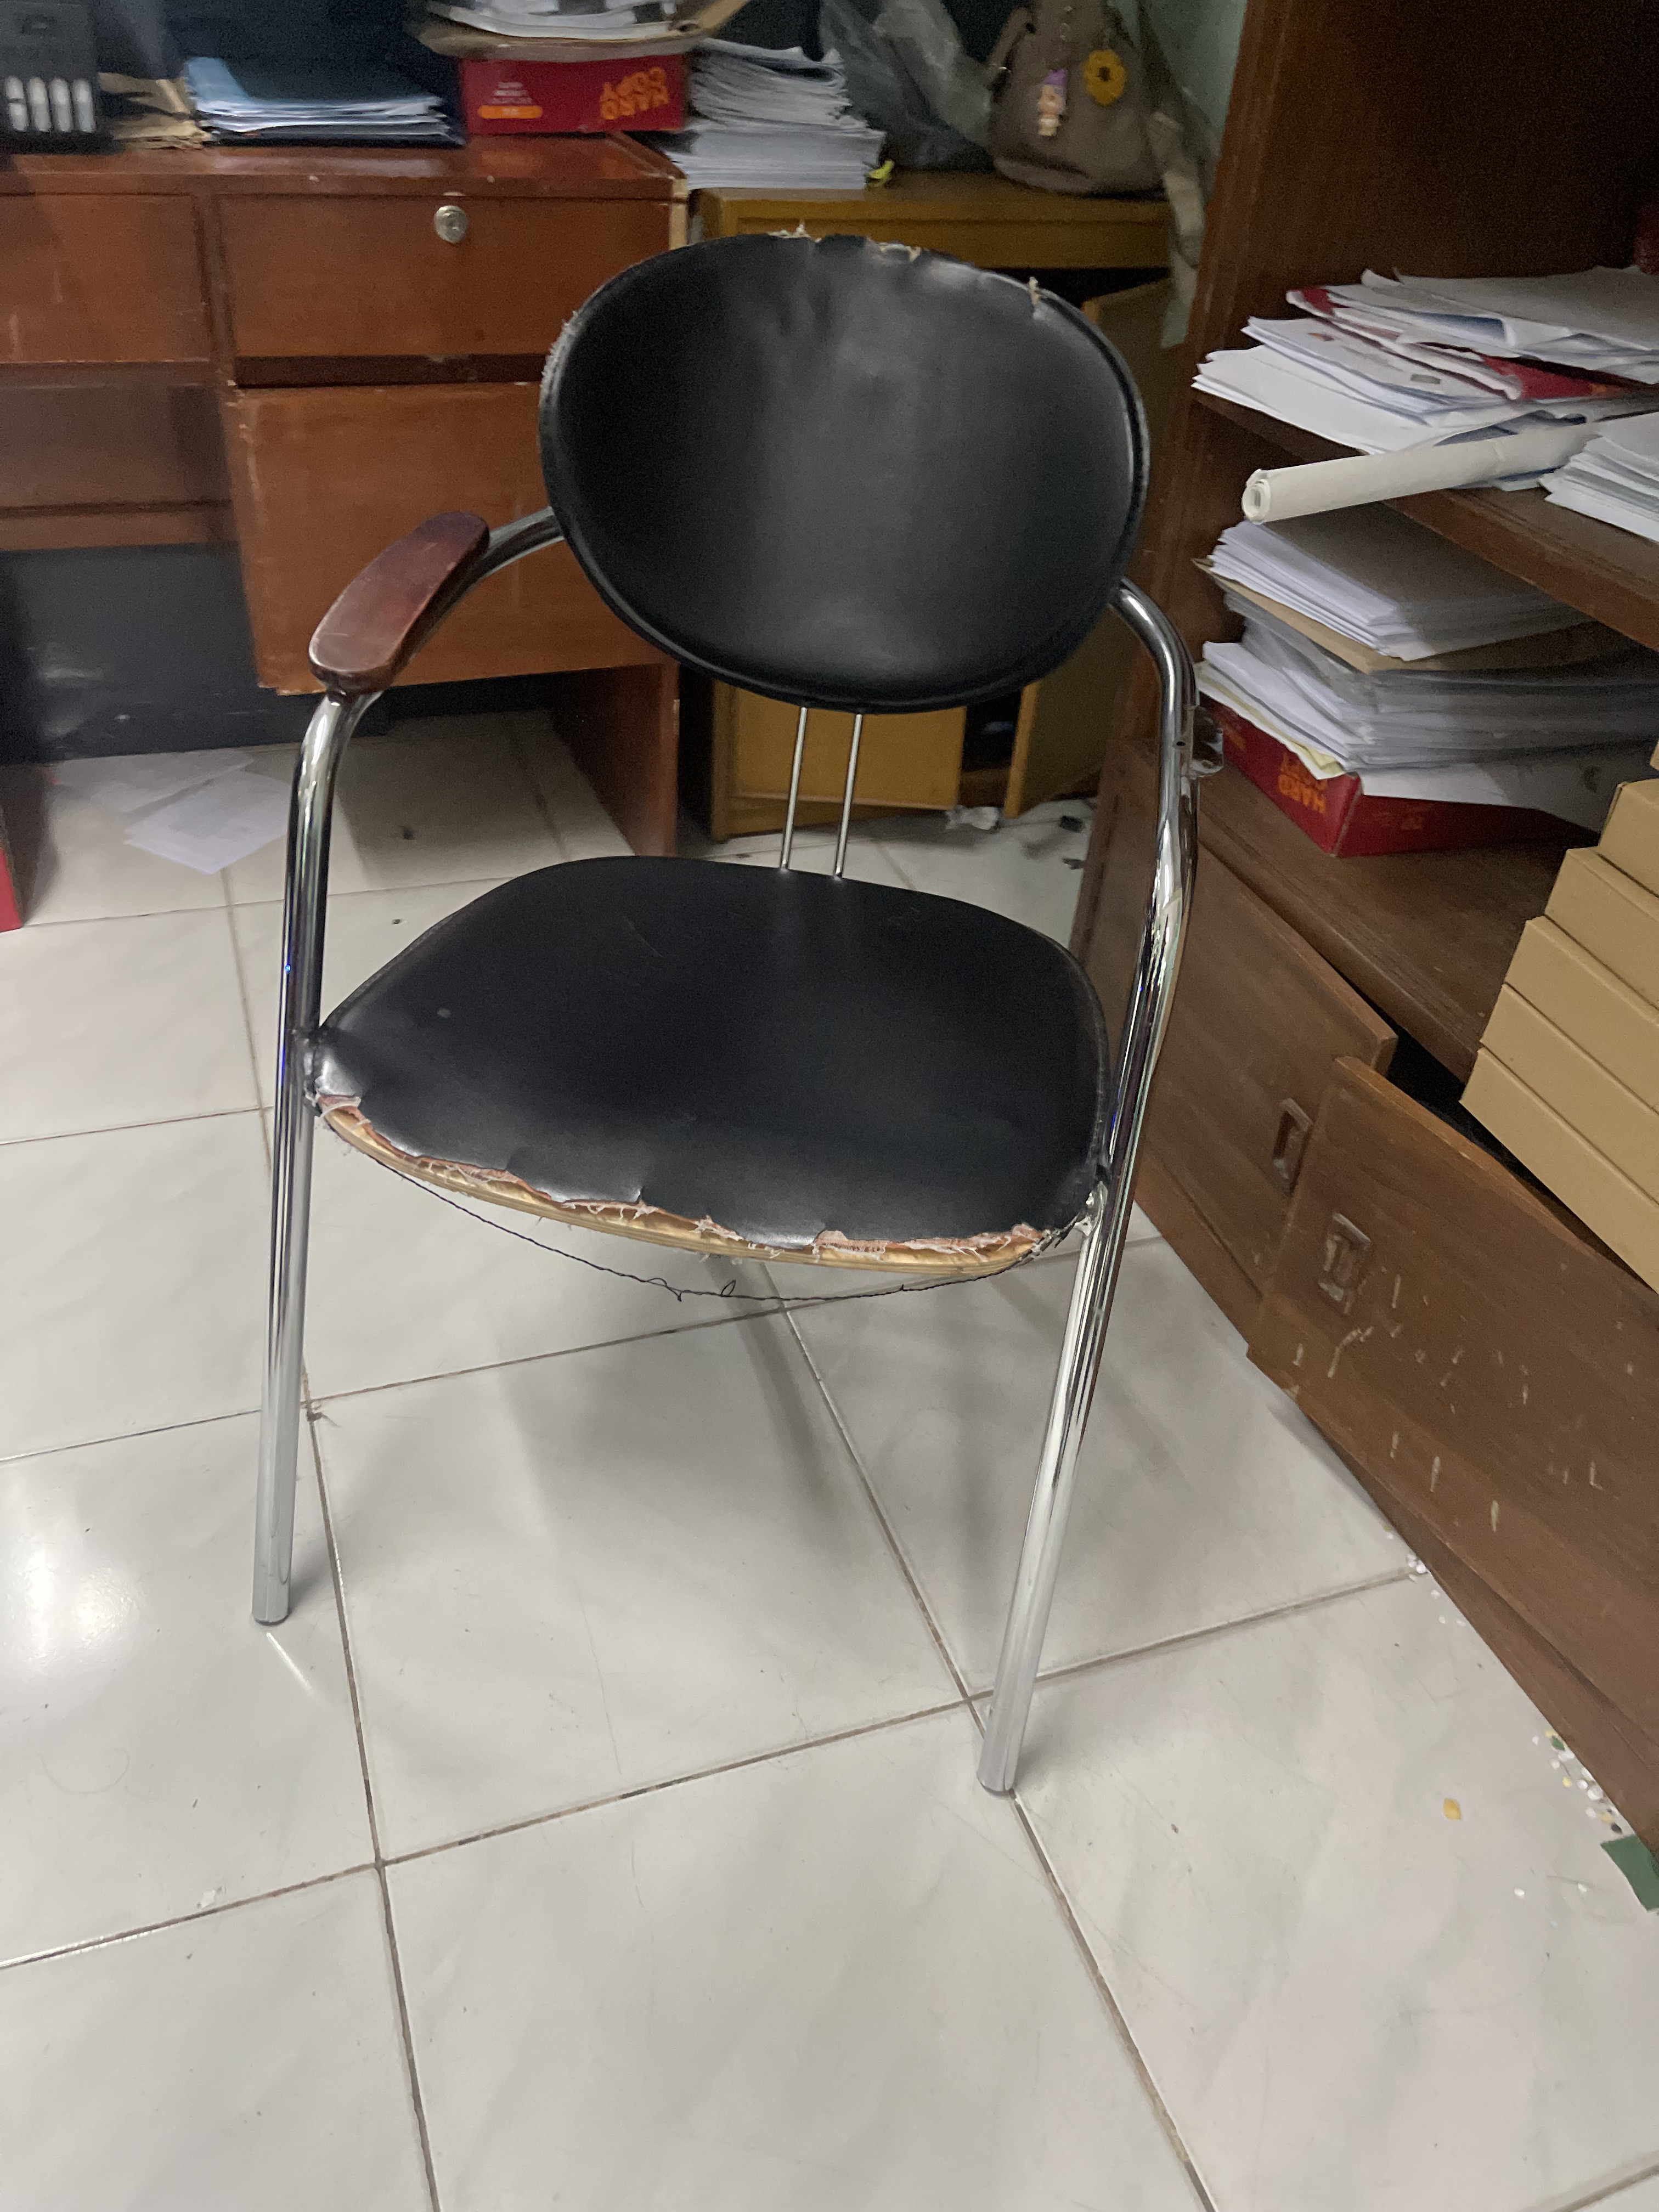chair1: (244, 228, 1213, 1797)
